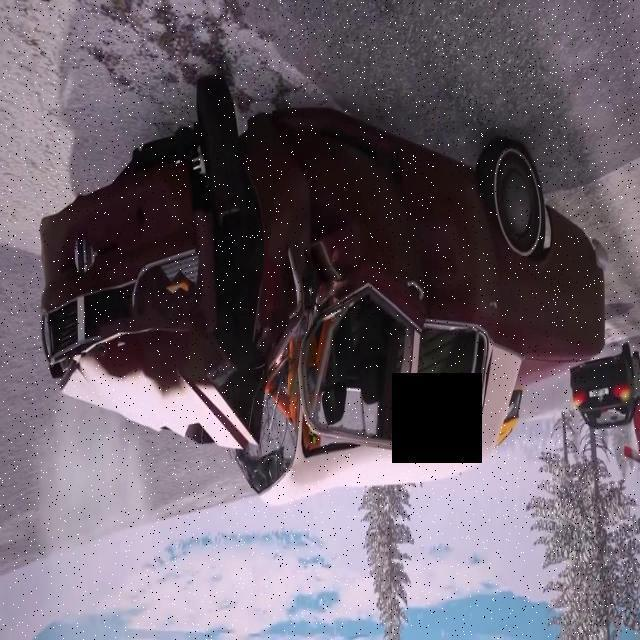vehicle: (25, 79, 617, 512)
